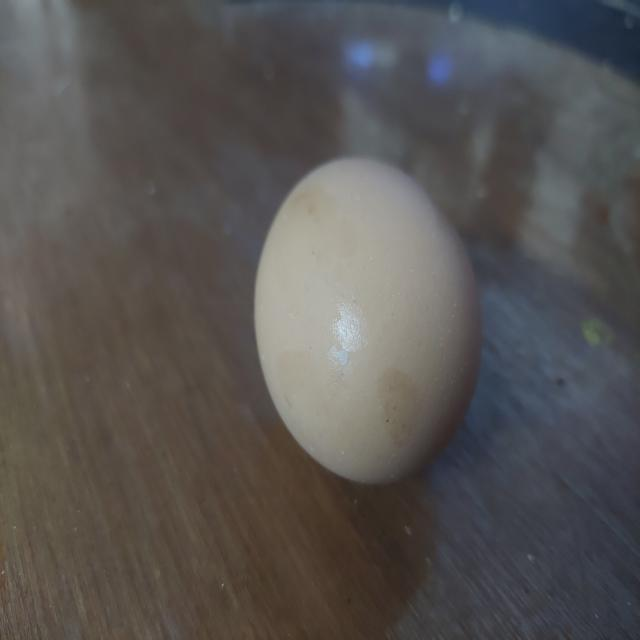egg: (247, 150, 489, 493)
